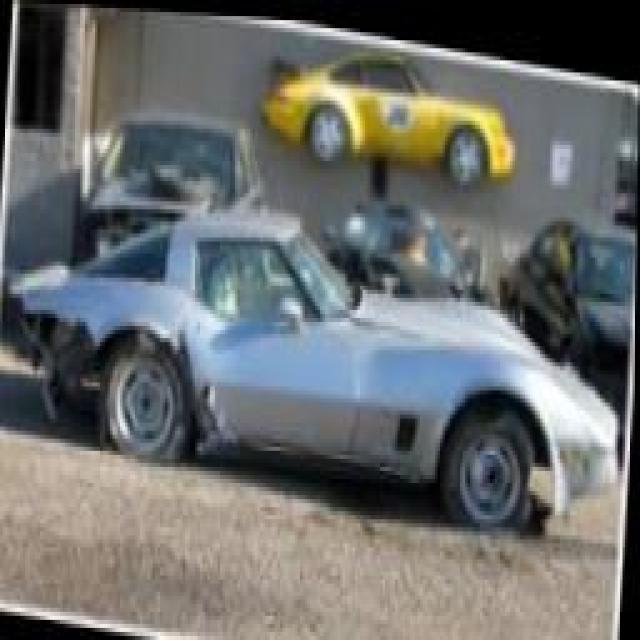Bumper: (15, 286, 119, 404)
Door: (202, 362, 256, 438)
